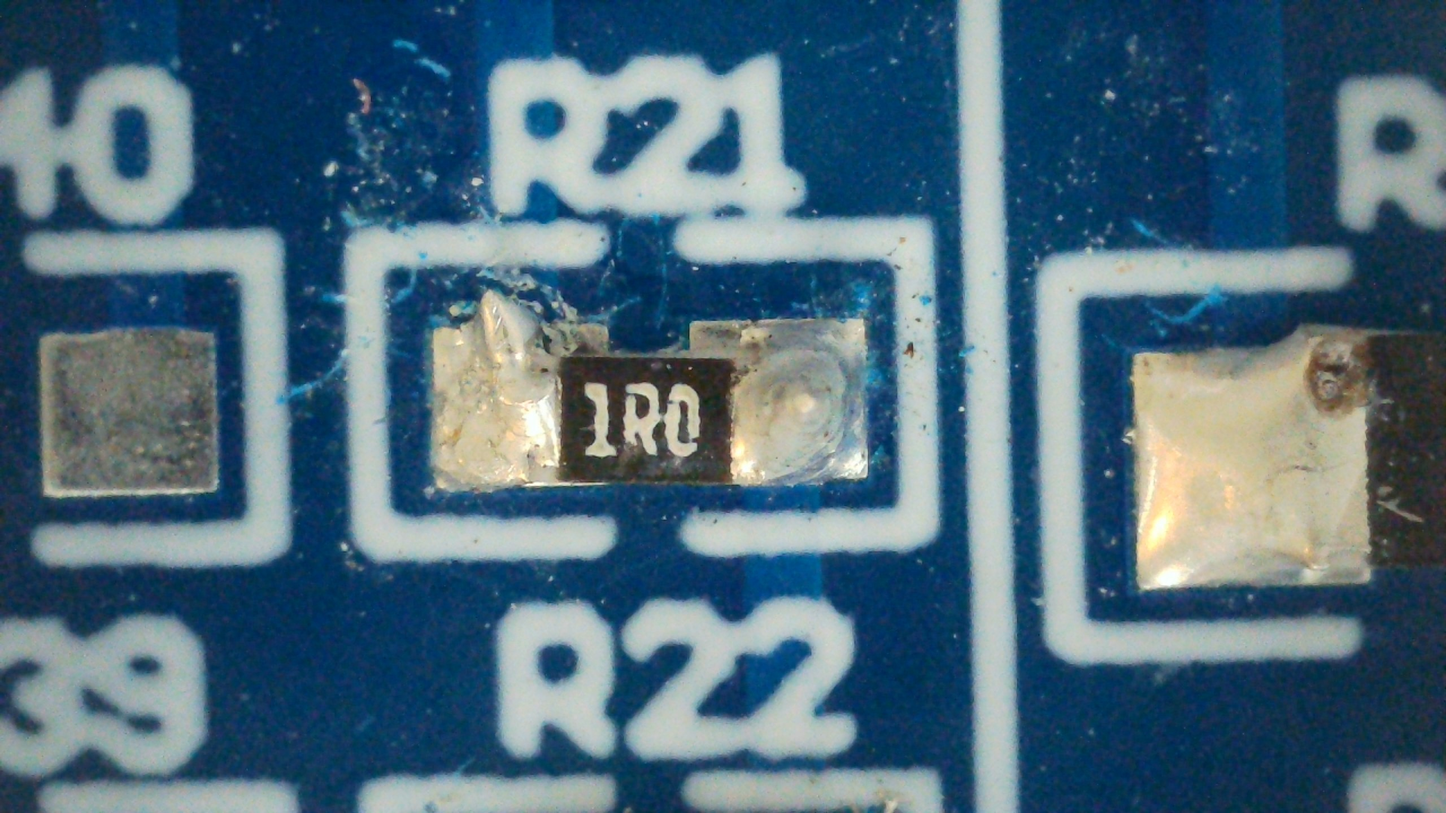OK: (435, 291, 867, 486)
